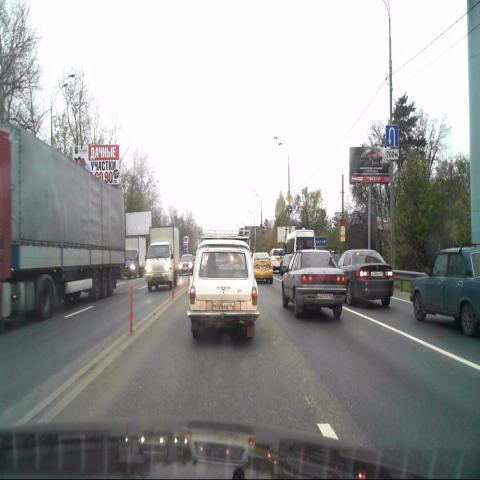6_3_1: (385, 126, 398, 148)
